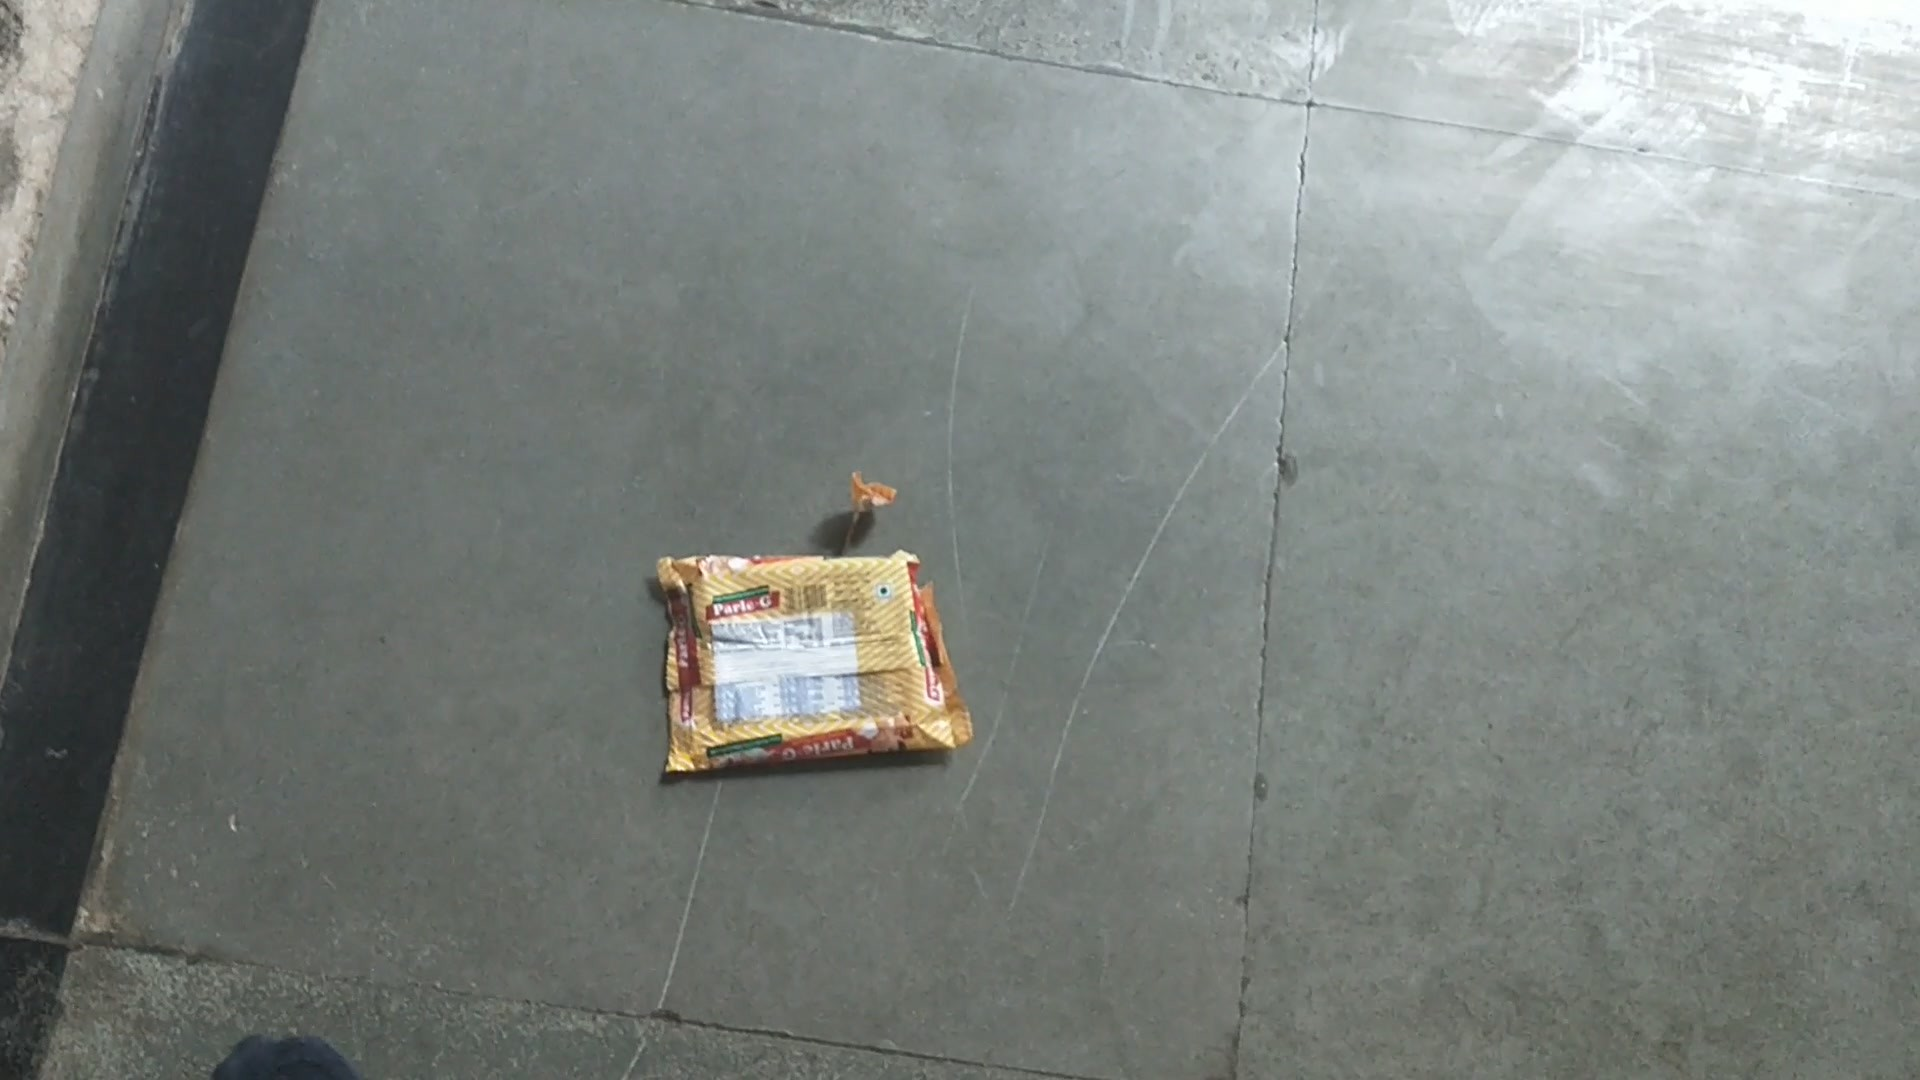parle-g-b: (674, 568, 918, 745)
